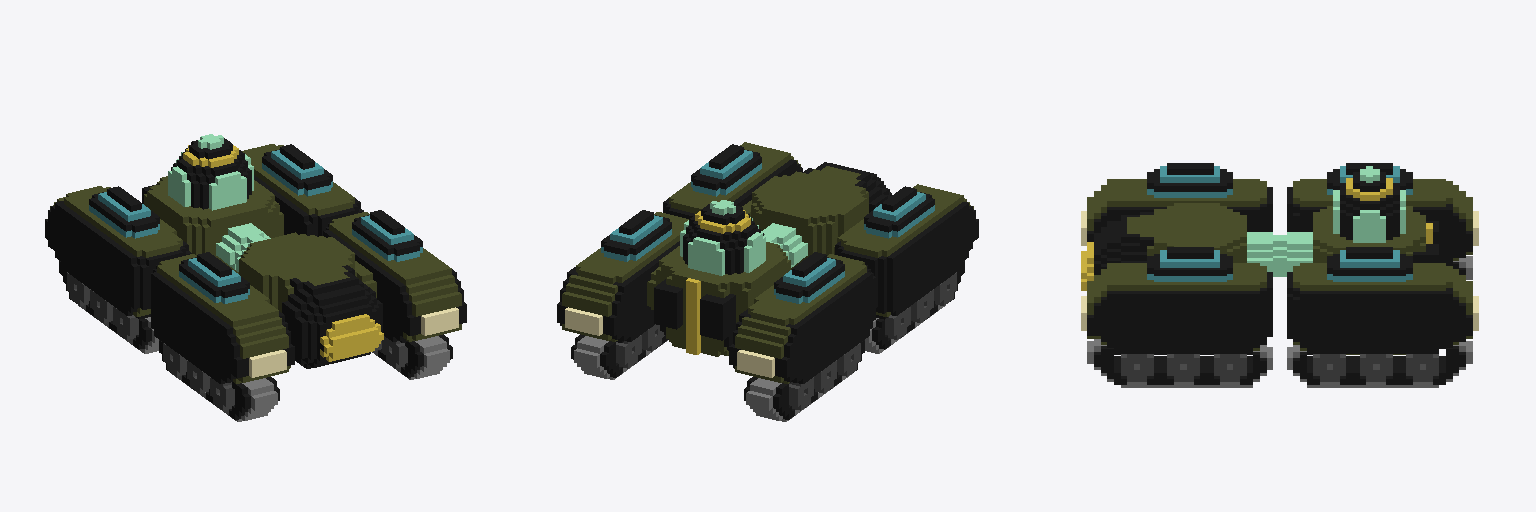
The picture shows the model from 3 angles: view 1: azimuth 30°, elevation 25°; view 2: azimuth 150°, elevation 25°; view 3: azimuth 270°, elevation 25°; orthographic projection.
Visible parts, largest first — view 1: speed_mecha-6; view 2: speed_mecha-6; view 3: speed_mecha-6.
Boxes of the visible parts, x1,y1,x2,y2 form: speed_mecha-6: [45, 134, 466, 421]; speed_mecha-6: [557, 142, 978, 421]; speed_mecha-6: [1081, 163, 1478, 387].
Size of the model in its own units: 40 by 28 by 60.
1 materials, 1 textured.